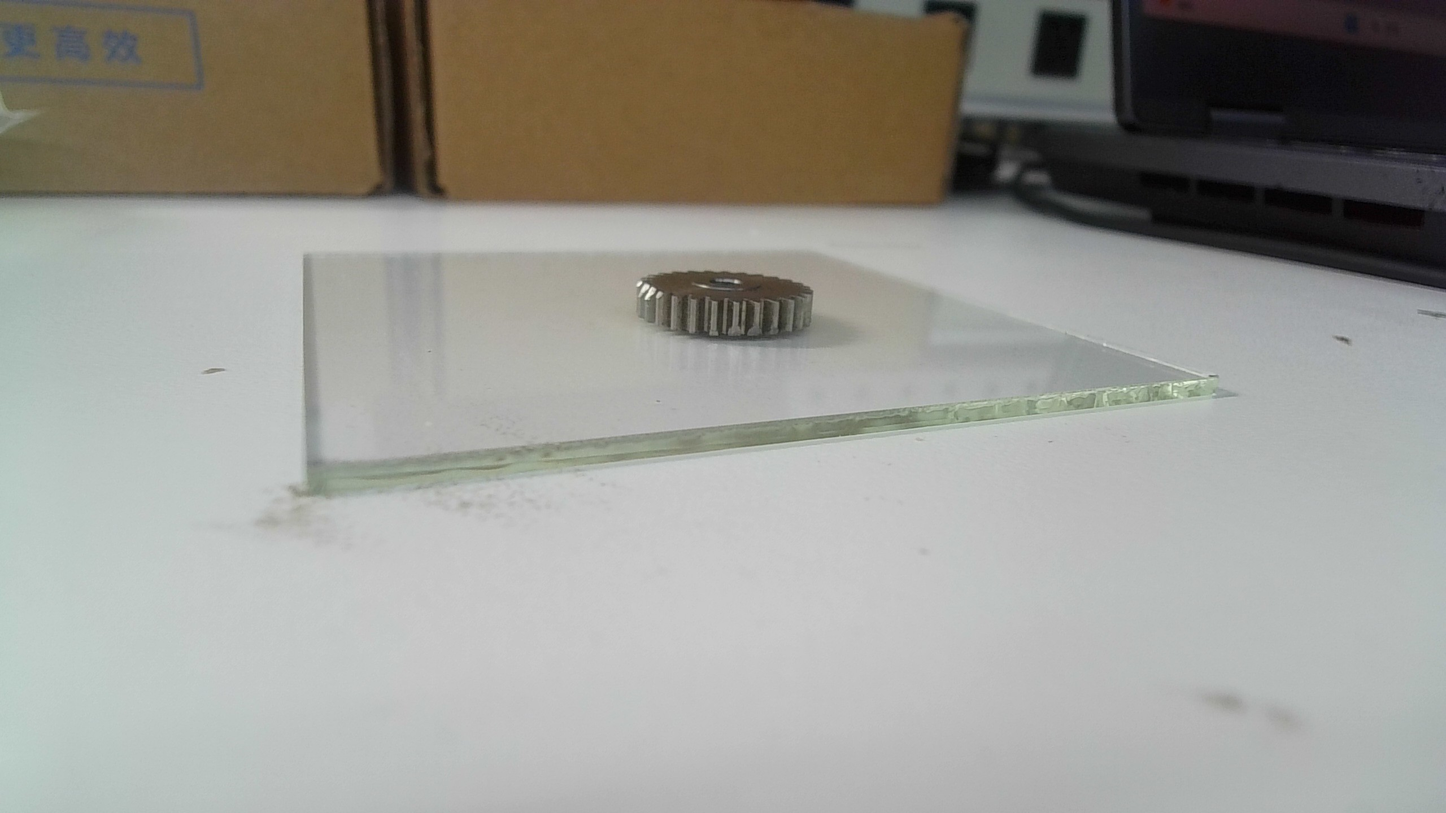gear: (634, 268, 818, 342)
